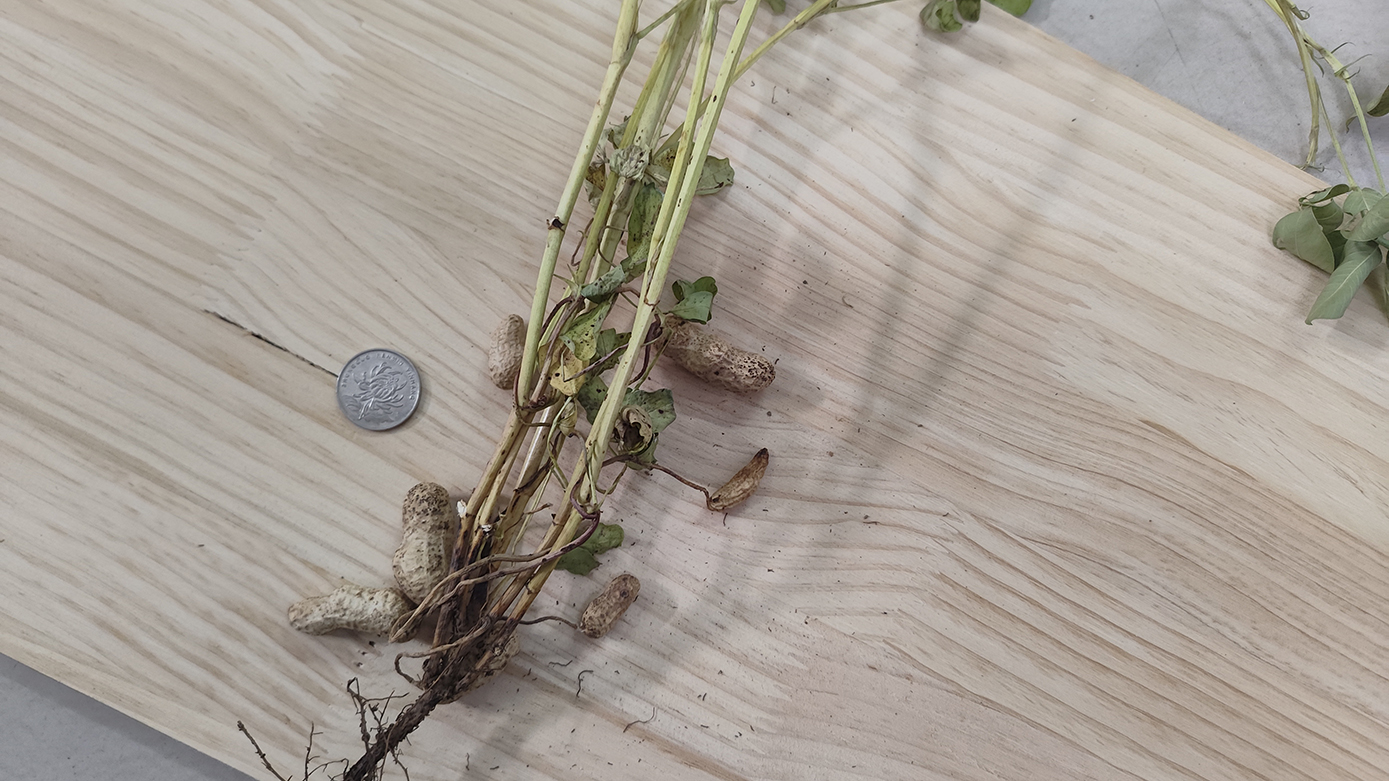h: (652, 316, 776, 394), (287, 583, 416, 639), (394, 482, 451, 605), (468, 624, 522, 693), (581, 575, 641, 636), (487, 314, 525, 389)
l: (709, 448, 769, 509)
